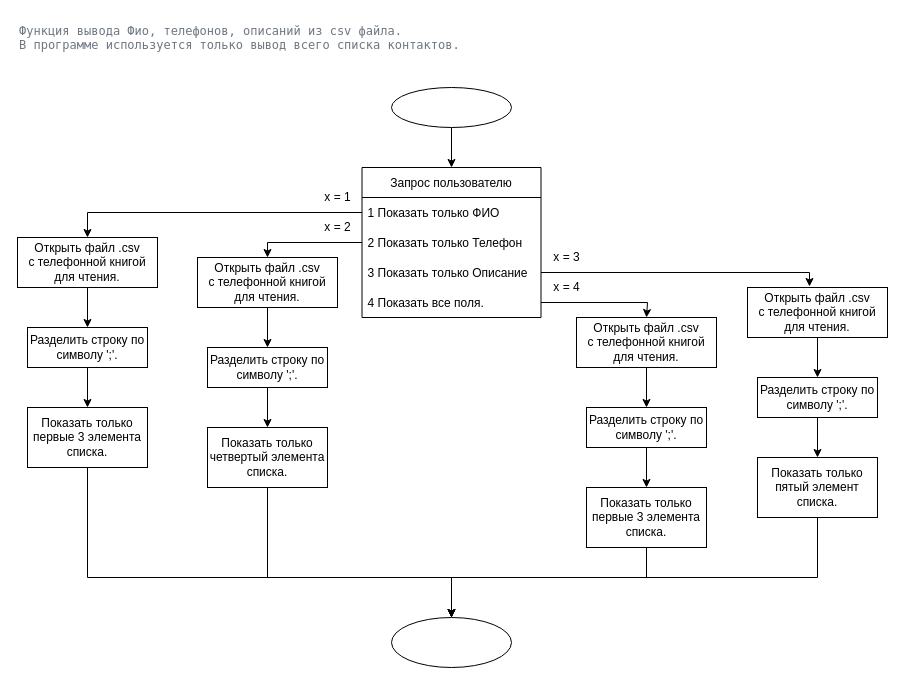
Some shapes in this 905 by 685 pixel diagram are drawn without their labels. Each missing label, with the centre of its shape:
"Exit" goes at (451,642).
"Start" goes at (451,107).
